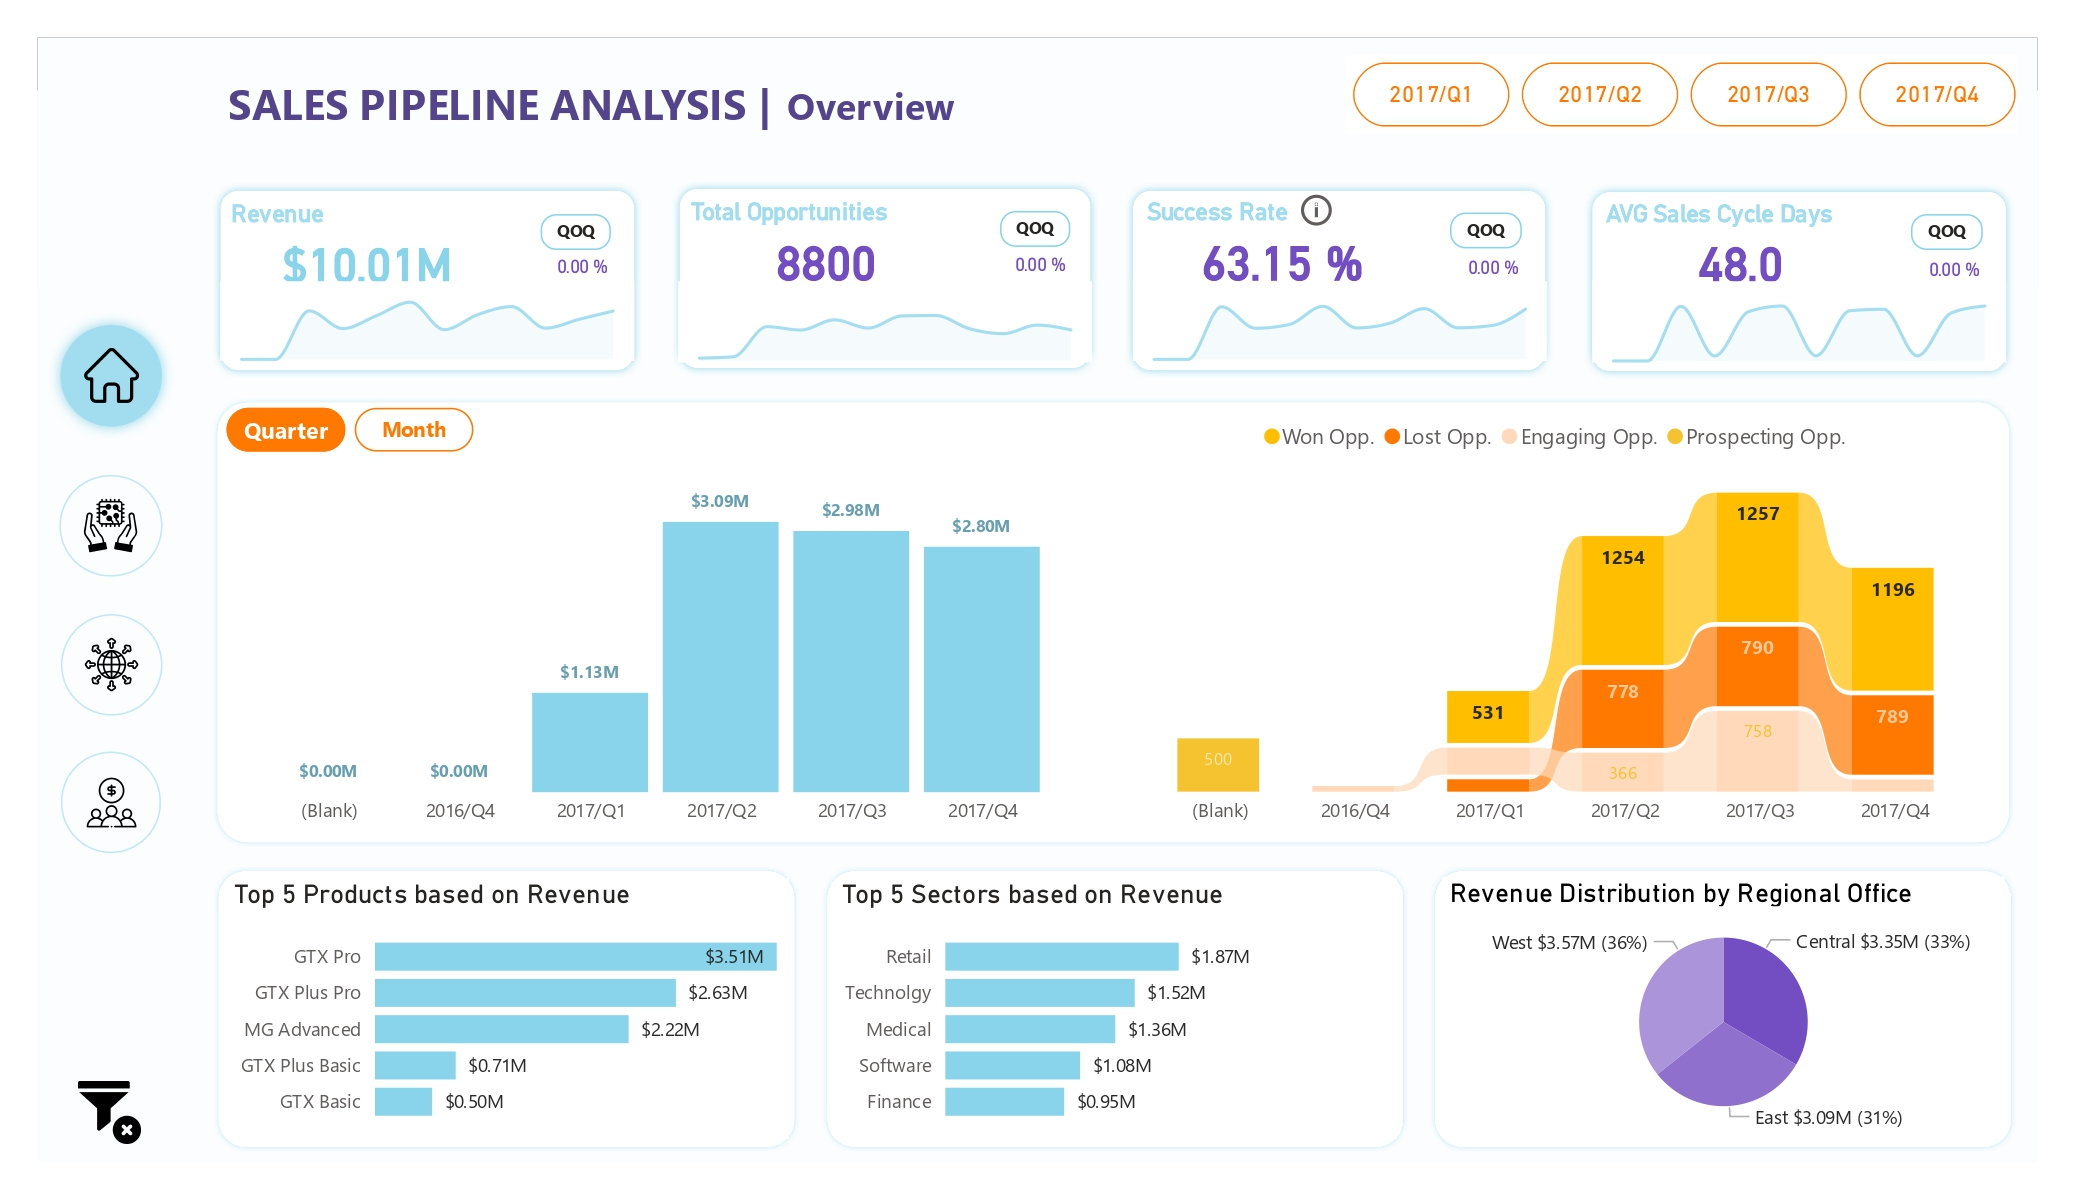

This screenshot's page, from the dashboard's own definition file:
{"tool":"powerbi","page":{"name":"Overview","canvas":[1280,720],"ordinal":0},"visuals":[{"type":"advancedSlicerVisual","title":"Quarter Slicer","fields":{"Values":["calendar.Year Quarter"]},"box":[837,11.2,430,51.4],"z":0,"group":"g9"},{"type":"shape","box":[405.8,91.7,273.2,125.5],"z":0,"group":"g7"},{"type":"shape","box":[112,93.1,275,125],"z":0,"group":"g8"},{"type":"shape","box":[696,93.4,274.1,125],"z":0,"group":"g6"},{"type":"shape","box":[990,93.8,275,125],"z":0,"group":"g5"},{"type":"shape","box":[6.7,176.2,80.7,80.7],"z":0,"group":"g13"},{"type":"shape","box":[111.7,230,1153.3,288.3],"z":0},{"type":"ribbonChart","title":"Opportunities by Quarter","fields":{"Y":["DAX Measures.won opportunities","DAX Measures.lost opportunities","DAX Measures.engaging opportunities","DAX Measures.prospecting opportunities"],"Category":["calendar.Year Quarter"]},"box":[690,235,566,278],"z":0,"group":"g4"},{"type":"shape","box":[14.2,280.4,65.7,65],"z":0,"group":"g12"},{"type":"shape","box":[14.5,368.8,65,65],"z":0,"group":"g11"},{"type":"shape","box":[15,457.3,64,65.4],"z":0,"group":"g10"},{"type":"shape","box":[112.5,530,375,182.5],"z":0,"group":"g3"},{"type":"shape","box":[501.9,530,375,182.5],"z":0,"group":"g2"},{"type":"shape","box":[891.2,530,375,182.5],"z":0,"group":"g1"},{"type":"textbox","box":[117,8.3,708.3,63.3],"z":1000,"group":"g9"},{"type":"card","title":"QOQ","fields":{"Values":["DAX Measures.qoq total opp"]},"box":[603,131.1,76.3,26.9],"z":1000,"group":"g7"},{"type":"card","title":"QOQ","fields":{"Values":["DAX Measures.qoq sales"]},"box":[309.6,132.3,77,26.9],"z":1000,"group":"g8"},{"type":"card","title":"QOQ","fields":{"Values":["DAX Measures.qoq success rate"]},"box":[893.3,133.4,76.8,27.1],"z":1000,"group":"g6"},{"type":"card","title":"QOQ","fields":{"Values":["DAX Measures.qoq sales cycle"]},"box":[1187.9,133.8,77.1,27.1],"z":1000,"group":"g5"},{"type":"image","title":"Home Icon","box":[29.5,199,35,35],"z":1000,"group":"g13"},{"type":"clusteredColumnChart","title":"Revenue by Quarter","fields":{"Category":["calendar.Year Quarter"],"Y":["DAX Measures.sales revenue"]},"box":[111,273,570,240],"z":1000,"group":"g4"},{"type":"image","title":"Product Icon","box":[29.6,295.4,35,35],"z":1000,"group":"g12"},{"type":"image","title":"Market Reach Icon","box":[29.5,383.8,35,35],"z":1000,"group":"g11"},{"type":"image","title":"Sales Teams Icon","box":[29.5,472.5,35,35],"z":1000,"group":"g10"},{"type":"group","id":"g1","title":"Regional Office","box":[891.2,530,375,182.5],"z":1000},{"type":"pieChart","title":"Revenue Distribution by Regional Office","fields":{"Category":["sales_teams.regional_office"],"Y":["DAX Measures.sales revenue"]},"box":[899,536.8,360,167],"z":1000,"group":"g1"},{"type":"clusteredBarChart","title":"Top 5 Products based on Revenue","fields":{"Category":["products.product_name"],"Y":["DAX Measures.sales revenue"]},"box":[120,537.5,360,167.5],"z":1000,"group":"g3"},{"type":"clusteredBarChart","title":"Top 5 Sectors based on Revenue","fields":{"Category":["accounts.sector"],"Y":["DAX Measures.sales revenue"]},"box":[509.8,538.3,360,166.7],"z":1000,"group":"g2"},{"type":"card","fields":{"Values":["DAX Measures.icon qoq total opp"]},"box":[593.1,129.7,29.2,31.5],"z":2000,"group":"g7"},{"type":"card","fields":{"Values":["DAX Measures.Icon"]},"box":[299.1,130.2,30,31.4],"z":2000,"group":"g8"},{"type":"card","fields":{"Values":["DAX Measures.icon qoq success rate"]},"box":[883.1,131.3,30,31.4],"z":2000,"group":"g6"},{"type":"card","fields":{"Values":["DAX Measures.icon qoq sales cycle"]},"box":[1176.8,131.5,30.5,31.4],"z":2000,"group":"g5"},{"type":"actionButton","title":"Month Button","box":[203,237,76,28],"z":2000,"group":"g4"},{"type":"group","id":"g2","title":"Top5 Sectors","box":[501.9,530,375,183.3],"z":2000},{"type":"textbox","box":[615.6,111.1,45.5,22.7],"z":3000,"group":"g7"},{"type":"textbox","box":[904.3,112.6,45.5,22.9],"z":3000,"group":"g6"},{"type":"textbox","box":[322,112.8,45.4,22.9],"z":3000,"group":"g8"},{"type":"textbox","box":[1199,113,45.6,22.9],"z":3000,"group":"g5"},{"type":"actionButton","title":"Quarter Button","box":[120.8,237,76,28],"z":3000,"group":"g4"},{"type":"group","id":"g3","title":"Top5 Products","box":[112.5,530,375,182.5],"z":3000},{"type":"card","title":"AVG Sales Cycle Days","fields":{"Values":["DAX Measures.sales cycle duration"]},"box":[998.6,102.4,182.9,62.9],"z":4000,"group":"g5"},{"type":"card","title":"Success Rate","fields":{"Values":["DAX Measures.success rate"]},"box":[704.6,102.5,183.7,63.2],"z":4000,"group":"g6"},{"type":"card","title":"Revenue","fields":{"Values":["DAX Measures.sales revenue"]},"box":[119.1,103.1,184.3,62.9],"z":4000,"group":"g8"},{"type":"areaChart","fields":{"Category":["calendar.Month"],"Y":["DAX Measures.total oppotunities"]},"box":[409.9,156,265.3,51.2],"z":4000,"group":"g7"},{"type":"card","title":"Total Opportunities","fields":{"Values":["DAX Measures.total oppotunities"]},"box":[413.3,101.3,182.7,62.9],"z":5000,"group":"g7"},{"type":"areaChart","fields":{"Y":["DAX Measures.sales cycle duration"],"Category":["calendar.Month"]},"box":[995,155.9,265,51.4],"z":5000,"group":"g5"},{"type":"areaChart","fields":{"Category":["calendar.Month"],"Y":["DAX Measures.success rate"]},"box":[701,156.3,265,50.7],"z":5000,"group":"g6"},{"type":"areaChart","fields":{"Y":["DAX Measures.sales revenue"],"Category":["calendar.Month"]},"box":[117,156.6,265.3,51],"z":5000,"group":"g8"},{"type":"group","id":"g4","title":"Quarter Info","box":[111,235,1145,278],"z":5000},{"type":"group","id":"g5","title":"Sales Cycle Duration","box":[990,93.8,275,125],"z":6000},{"type":"actionButton","box":[803.8,96.7,28.9,28.3],"z":6000,"group":"g6"},{"type":"group","id":"g6","title":"Success Rate","box":[696,93.4,274.1,125],"z":7000},{"type":"group","id":"g7","title":"Total Opp.","box":[405.8,91.7,273.6,125.5],"z":8000},{"type":"group","id":"g8","title":"Revenue","box":[112,93.1,275,125],"z":9000},{"type":"group","id":"g9","title":"Header","box":[117,8.3,1150,63.3],"z":10000},{"type":"image","title":"Reset Filter","box":[21.4,662.9,50,50],"z":11500,"group":"g14"},{"type":"group","id":"g10","title":"Sales Team Icon","box":[15,457.3,64,65.4],"z":12000,"group":"g14"},{"type":"group","id":"g11","title":"Market Icon","box":[14.5,368.8,65,65],"z":13000,"group":"g14"},{"type":"group","id":"g12","title":"Product Icon","box":[14.2,280.4,65.7,65],"z":14000,"group":"g14"},{"type":"group","id":"g13","title":"Home Icon","box":[6.7,176.2,80.7,80.7],"z":15000,"group":"g14"},{"type":"group","id":"g14","title":"Page Navigator","box":[0,0,96,720.7],"z":15001}]}

Visuals, with their boxes on the page's 1280x720 design canvas (x1, y1, x2, y2). These are canvas units, not pixel positions in the 2075x1200 screenshot, which may show the page scaled, cropped or inside an application window:
"Quarter Slicer" advancedSlicerVisual: <region>837, 11, 1267, 63</region>
shape: <region>406, 92, 679, 217</region>
shape: <region>112, 93, 387, 218</region>
shape: <region>696, 93, 970, 218</region>
shape: <region>990, 94, 1265, 219</region>
shape: <region>7, 176, 87, 257</region>
shape: <region>112, 230, 1265, 518</region>
"Opportunities by Quarter" ribbonChart: <region>690, 235, 1256, 513</region>
shape: <region>14, 280, 80, 345</region>
shape: <region>14, 369, 80, 434</region>
shape: <region>15, 457, 79, 523</region>
shape: <region>112, 530, 488, 712</region>
shape: <region>502, 530, 877, 712</region>
shape: <region>891, 530, 1266, 712</region>
textbox: <region>117, 8, 825, 72</region>
"QOQ" card: <region>603, 131, 679, 158</region>
"QOQ" card: <region>310, 132, 387, 159</region>
"QOQ" card: <region>893, 133, 970, 160</region>
"QOQ" card: <region>1188, 134, 1265, 161</region>
"Home Icon" image: <region>30, 199, 64, 234</region>
"Revenue by Quarter" clusteredColumnChart: <region>111, 273, 681, 513</region>
"Product Icon" image: <region>30, 295, 65, 330</region>
"Market Reach Icon" image: <region>30, 384, 64, 419</region>
"Sales Teams Icon" image: <region>30, 472, 64, 508</region>
"Regional Office" group: <region>891, 530, 1266, 712</region>
"Revenue Distribution by Regional Office" pieChart: <region>899, 537, 1259, 704</region>
"Top 5 Products based on Revenue" clusteredBarChart: <region>120, 538, 480, 705</region>
"Top 5 Sectors based on Revenue" clusteredBarChart: <region>510, 538, 870, 705</region>
card - DAX Measures.icon qoq total opp: <region>593, 130, 622, 161</region>
card - DAX Measures.Icon: <region>299, 130, 329, 162</region>
card - DAX Measures.icon qoq success rate: <region>883, 131, 913, 163</region>
card - DAX Measures.icon qoq sales cycle: <region>1177, 132, 1207, 163</region>
"Month Button" actionButton: <region>203, 237, 279, 265</region>
"Top5 Sectors" group: <region>502, 530, 877, 713</region>
textbox: <region>616, 111, 661, 134</region>
textbox: <region>904, 113, 950, 136</region>
textbox: <region>322, 113, 367, 136</region>
textbox: <region>1199, 113, 1245, 136</region>
"Quarter Button" actionButton: <region>121, 237, 197, 265</region>
"Top5 Products" group: <region>112, 530, 488, 712</region>
"AVG Sales Cycle Days" card: <region>999, 102, 1182, 165</region>
"Success Rate" card: <region>705, 102, 888, 166</region>
"Revenue" card: <region>119, 103, 303, 166</region>
areaChart - calendar.Month x DAX Measures.total oppotunities: <region>410, 156, 675, 207</region>
"Total Opportunities" card: <region>413, 101, 596, 164</region>
areaChart - DAX Measures.sales cycle duration x calendar.Month: <region>995, 156, 1260, 207</region>
areaChart - calendar.Month x DAX Measures.success rate: <region>701, 156, 966, 207</region>
areaChart - DAX Measures.sales revenue x calendar.Month: <region>117, 157, 382, 208</region>
"Quarter Info" group: <region>111, 235, 1256, 513</region>
"Sales Cycle Duration" group: <region>990, 94, 1265, 219</region>
actionButton: <region>804, 97, 833, 125</region>
"Success Rate" group: <region>696, 93, 970, 218</region>
"Total Opp." group: <region>406, 92, 679, 217</region>
"Revenue" group: <region>112, 93, 387, 218</region>
"Header" group: <region>117, 8, 1267, 72</region>
"Reset Filter" image: <region>21, 663, 71, 713</region>
"Sales Team Icon" group: <region>15, 457, 79, 523</region>
"Market Icon" group: <region>14, 369, 80, 434</region>
"Product Icon" group: <region>14, 280, 80, 345</region>
"Home Icon" group: <region>7, 176, 87, 257</region>
"Page Navigator" group: <region>0, 0, 96, 721</region>
